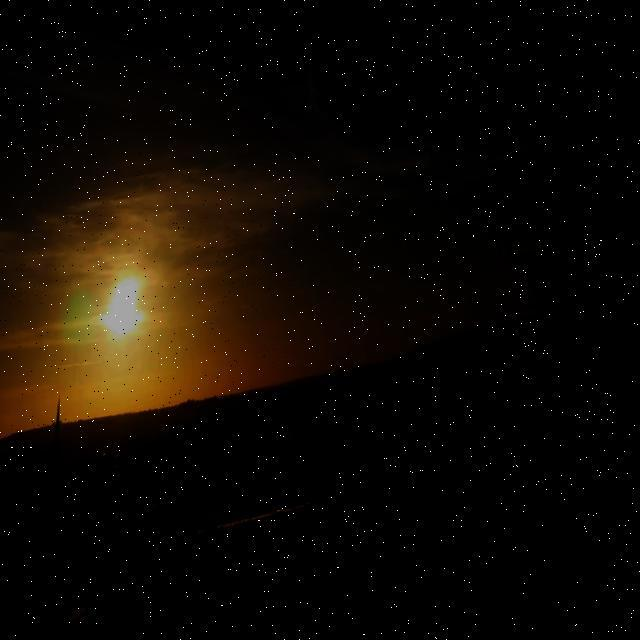Fire: (286, 438, 298, 466)
